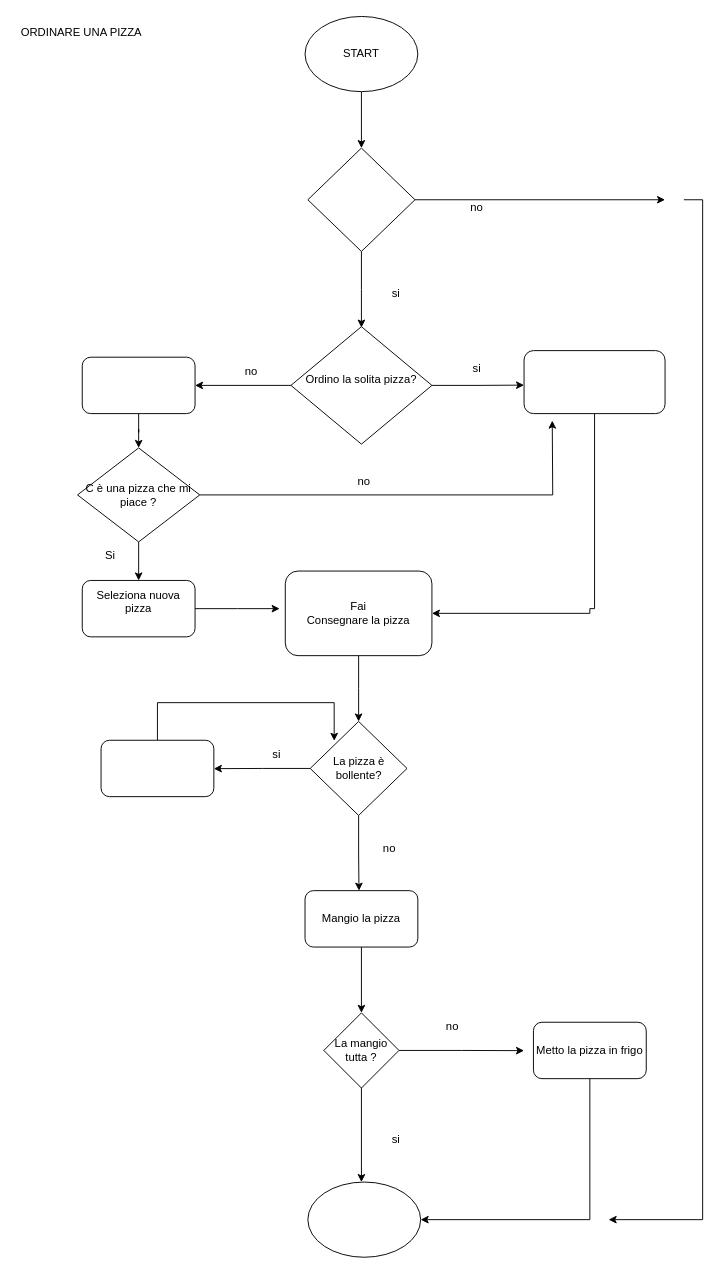
Image size: 727x1274. Some labels were removed from this diagram. Each missing label, with the centre of its shape:
Apro lista pizze: (138,385)
Aspetto un minuto: (157,768)
FINE: (364,1219)
Ho fame?: (361,199)
Seleziono Prociutto e funghi: (594,382)
